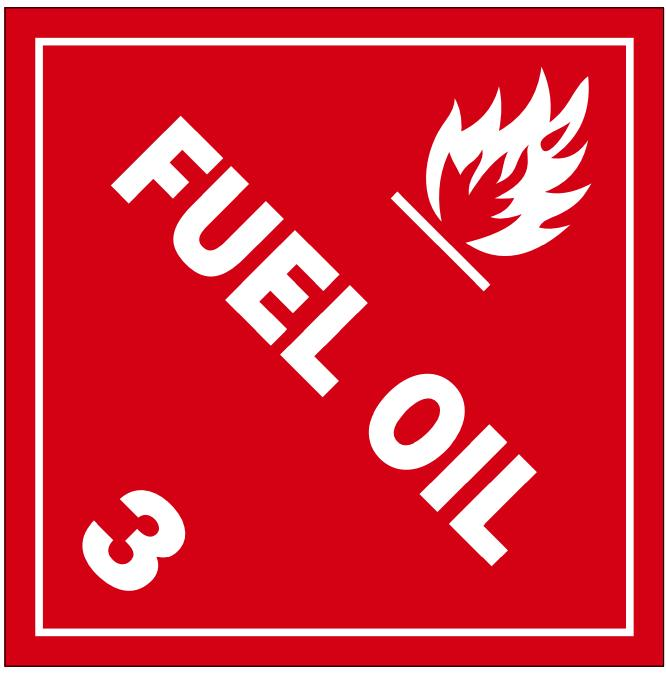flammable: (1, 1, 666, 673)
